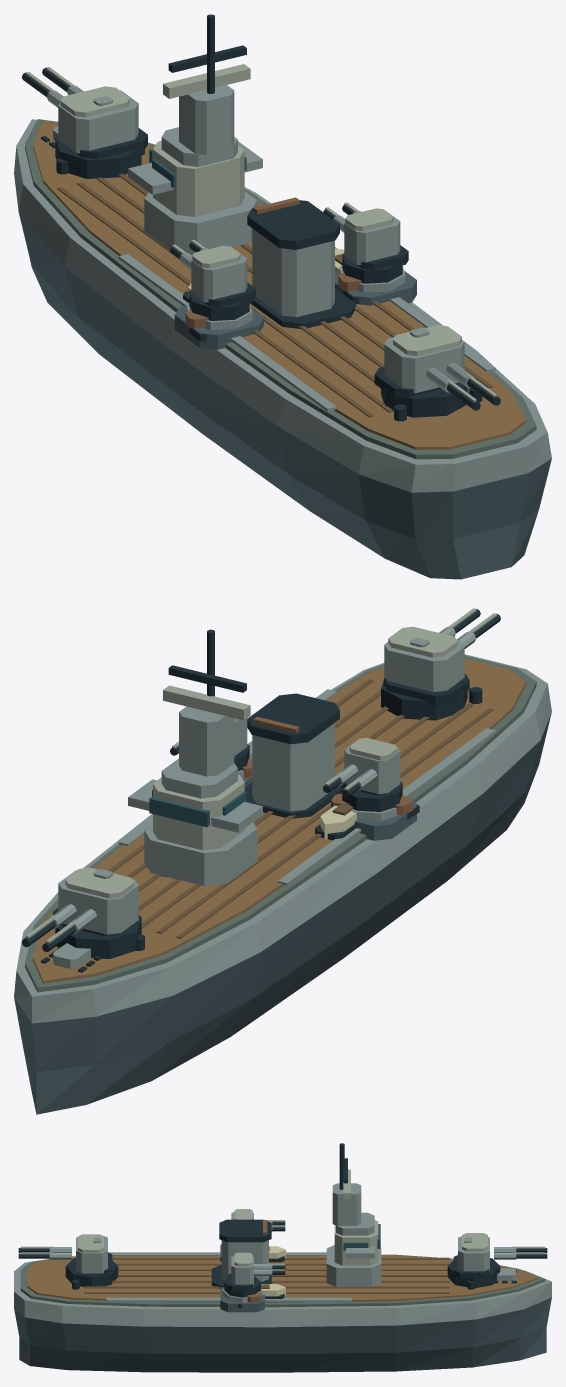
The model's file is historic-thonburi.glb.
3 renders of one model, top to bottom at view 1: azimuth 30°, elevation 25°; view 2: azimuth 150°, elevation 25°; view 3: azimuth 270°, elevation 25°, orthographic. The views are drawn at different scales.
Parts seen in each view (by area): view 1: historic-thonburi-historic-thonburi-geometry, historic-thonburi-part_bridge.065-geometry, historic-thonburi-historic_funnel_0.067-geometry, historic-thonburi-turret_main_0.056-geometry, historic-thonburi-turret_main_1.054-geometry, historic-thonburi-turret_aa_aa-port.068-geometry, historic-thonburi-turret_aa_aa-starboard.065-geometry, historic-thonburi-part_aa-port.068-geometry, historic-thonburi-part_aa-starboard.065-geometry; view 2: historic-thonburi-historic-thonburi-geometry, historic-thonburi-part_bridge.065-geometry, historic-thonburi-historic_funnel_0.067-geometry, historic-thonburi-turret_main_1.054-geometry, historic-thonburi-turret_main_0.056-geometry, historic-thonburi-turret_aa_aa-port.068-geometry, historic-thonburi-part_aa-port.068-geometry, historic-thonburi-turret_aa_aa-starboard.065-geometry; view 3: historic-thonburi-historic-thonburi-geometry, historic-thonburi-part_bridge.065-geometry, historic-thonburi-turret_main_0.056-geometry, historic-thonburi-turret_main_1.054-geometry, historic-thonburi-historic_funnel_0.067-geometry, historic-thonburi-turret_aa_aa-starboard.065-geometry, historic-thonburi-part_aa-starboard.065-geometry, historic-thonburi-turret_aa_aa-port.068-geometry.
Boxes of the visible parts, bbox=[...] form: historic-thonburi-historic-thonburi-geometry: bbox=[14, 119, 551, 579]; historic-thonburi-part_bridge.065-geometry: bbox=[128, 14, 262, 255]; historic-thonburi-historic_funnel_0.067-geometry: bbox=[247, 197, 355, 328]; historic-thonburi-turret_main_0.056-geometry: bbox=[22, 67, 147, 178]; historic-thonburi-turret_main_1.054-geometry: bbox=[374, 325, 500, 417]; historic-thonburi-turret_aa_aa-port.068-geometry: bbox=[170, 239, 255, 320]; historic-thonburi-turret_aa_aa-starboard.065-geometry: bbox=[323, 202, 408, 283]; historic-thonburi-part_aa-port.068-geometry: bbox=[174, 303, 263, 349]; historic-thonburi-part_aa-starboard.065-geometry: bbox=[335, 266, 416, 305]; historic-thonburi-historic-thonburi-geometry: bbox=[14, 654, 551, 1114]; historic-thonburi-part_bridge.065-geometry: bbox=[128, 629, 262, 885]; historic-thonburi-historic_funnel_0.067-geometry: bbox=[244, 693, 342, 818]; historic-thonburi-turret_main_1.054-geometry: bbox=[381, 608, 500, 720]; historic-thonburi-turret_main_0.056-geometry: bbox=[21, 867, 141, 958]; historic-thonburi-turret_aa_aa-port.068-geometry: bbox=[323, 738, 402, 811]; historic-thonburi-part_aa-port.068-geometry: bbox=[327, 794, 416, 840]; historic-thonburi-turret_aa_aa-starboard.065-geometry: bbox=[170, 718, 249, 771]; historic-thonburi-historic-thonburi-geometry: bbox=[14, 1246, 551, 1372]; historic-thonburi-part_bridge.065-geometry: bbox=[326, 1143, 381, 1286]; historic-thonburi-turret_main_0.056-geometry: bbox=[447, 1233, 547, 1287]; historic-thonburi-turret_main_1.054-geometry: bbox=[18, 1234, 118, 1286]; historic-thonburi-historic_funnel_0.067-geometry: bbox=[211, 1219, 271, 1288]; historic-thonburi-turret_aa_aa-starboard.065-geometry: bbox=[224, 1252, 285, 1297]; historic-thonburi-part_aa-starboard.065-geometry: bbox=[220, 1287, 264, 1312]; historic-thonburi-turret_aa_aa-port.068-geometry: bbox=[231, 1209, 285, 1231].
Size of the model in its own units: 1.2 by 1.84 by 4.32.
